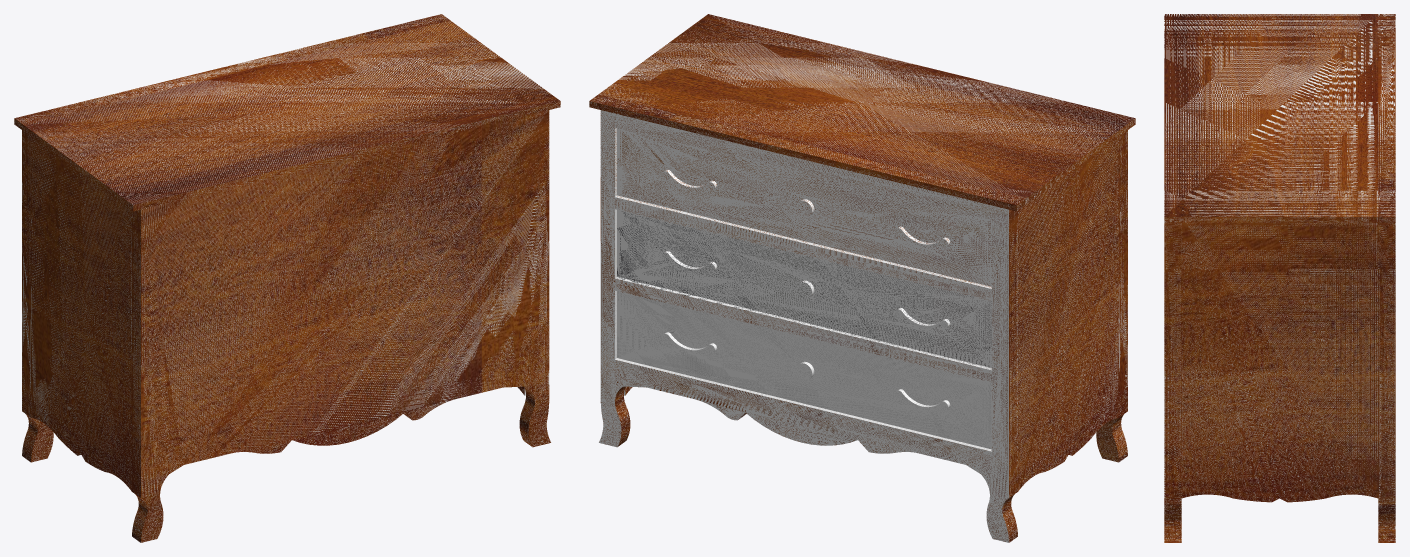
3 views of the same model, side by side, from view 1: azimuth 30°, elevation 25°; view 2: azimuth 150°, elevation 25°; view 3: azimuth 270°, elevation 25° (orthographic). The views are drawn at different scales.
Visible parts, largest first — view 1: mesh1_mesh1-geometry; view 2: mesh1_mesh1-geometry; view 3: mesh1_mesh1-geometry.
Boxes of the visible parts, x1,y1,x2,y2 form: mesh1_mesh1-geometry: [14, 14, 560, 542]; mesh1_mesh1-geometry: [589, 14, 1135, 542]; mesh1_mesh1-geometry: [1164, 14, 1395, 542].
Size of the model in its own units: 0.7435 by 0.5647 by 0.3582.
